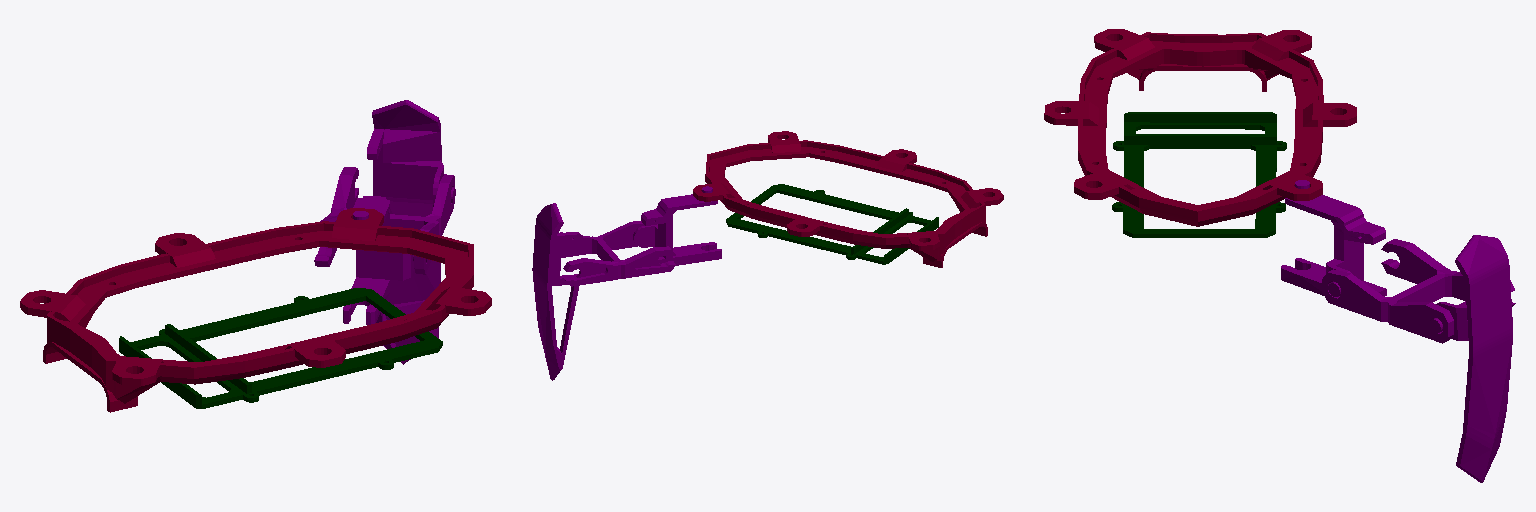
URDF robot description (hexapod):
<?xml version="1.0" ?>
<!-- =================================================================================== -->
<!-- |    This document was autogenerated by xacro from hexapod.urdf.xacro             | -->
<!-- |    EDITING THIS FILE BY HAND IS NOT RECOMMENDED                                 | -->
<!-- =================================================================================== -->
<robot name="hexapod">
  <material name="body">
    <color rgba="0.5 0 0.2 0.5"/>
  </material>
  <link name="cover_top">
    <visual>
      <geometry>
        <mesh filename="package://hex/models/hexapod_new/meshes/new_meshe/cover_top.stl" scale="0.01 0.01 0.01"/>
      </geometry>
      <origin xyz="-0.02 -0 0"/>
      <material name="body"/>
    </visual>
    <inertial>
      <mass value="0.05"/>
      <inertia ixx="0.004208333333333334" ixy="0" ixz="0" iyy="0.014833333333333337" iyz="0" izz="0.010708333333333335"/>
    </inertial>
    <collision>
      <geometry>
        <mesh filename="package://hex/models/hexapod_new/meshes/new_meshe/cover_top.stl" scale="0.01 0.01 0.01"/>
        <origin xyz="-0.02 -0 0"/>
      </geometry>
    </collision>
  </link>
  <joint name="body_top_cover_top_joint" type="fixed">
    <parent link="body_top"/>
    <child link="cover_top"/>
    <origin rpy="0.0 0.0 -0.05" xyz="0.0 -0.115 0.31"/>
  </joint>
  <link name="body_top">
    <visual>
      <geometry>
        <mesh filename="package://hex/models/hexapod_new/meshes/new_meshe/body_top.stl" scale="0.01 0.01 0.01"/>
      </geometry>
      <origin xyz="0 -0.42 0"/>
      <material name="body"/>
    </visual>
    <inertial>
      <mass value="0.2"/>
      <inertia ixx="0.016833333333333336" ixy="0" ixz="0" iyy="0.05933333333333335" iyz="0" izz="0.04283333333333334"/>
    </inertial>
    <collision>
      <geometry>
        <mesh filename="package://hex/models/hexapod_new/meshes/new_meshe/body_top.stl" scale="0.01 0.01 0.01"/>
        <origin xyz="0 -0.42 0"/>
      </geometry>
    </collision>
  </link>
  <joint name="body_top_body_bottom_joint" type="fixed">
    <parent link="body_bottom"/>
    <child link="body_top"/>
    <origin rpy="0.0 0.0 0.0" xyz="0.0 0.02 0"/>
  </joint>
  <link name="board_bracket">
    <visual>
      <geometry>
        <mesh filename="package://hex/models/hexapod_new/meshes/new_meshe/board_bracket.stl" scale="0.01 0.01 0.01"/>
      </geometry>
      <origin xyz="0 0 0"/>
      <material name="green">
        <color rgba="0 0.2 0 0.5"/>
      </material>
    </visual>
    <inertial>
      <mass value="0.3"/>
      <inertia ixx="0.009089999999999999" ixy="0" ixz="0" iyy="0.03925000000000001" iyz="0" izz="0.030340000000000006"/>
    </inertial>
    <collision>
      <geometry>
        <mesh filename="package://hex/models/hexapod_new/meshes/new_meshe/board_bracket.stl" scale="0.01 0.01 0.01"/>
        <origin xyz="0 0 0"/>
      </geometry>
    </collision>
  </link>
  <joint name="base_bottom_bracket_board" type="fixed">
    <parent link="body_bottom"/>
    <child link="board_bracket"/>
    <origin rpy="0.0 0.0 0.0" xyz="0 -0.03 0"/>
  </joint>
  <link name="body_bottom">
    <visual>
      <geometry>
        <mesh filename="package://hex/models/hexapod_new/meshes/new_meshe/body_bottom.stl" scale="0.01 0.01 0.01"/>
      </geometry>
      <origin xyz="0.0 -0.425 0"/>
      <material name="body"/>
    </visual>
    <inertial>
      <mass value="0.2"/>
      <inertia ixx="0.016833333333333336" ixy="0" ixz="0" iyy="0.05933333333333335" iyz="0" izz="0.04283333333333334"/>
    </inertial>
    <collision>
      <geometry>
        <mesh filename="package://hex/models/hexapod_new/meshes/new_meshe/body_bottom.stl" scale="0.01 0.01 0.01"/>
        <origin xyz="0.0 -0.425 0"/>
      </geometry>
    </collision>
  </link>
  <link name="base_footprint"/>
  <joint name="base_footprint_base_bottom_joint" type="fixed">
    <parent link="base_footprint"/>
    <child link="body_bottom"/>
    <origin rpy="0.0 0.0 0.0" xyz="0.0 0.0 0.0"/>
  </joint>
  <material name="coxa">
    <color rgba="0.5 0 0.5 1"/>
  </material>
  <material name="femur">
    <color rgba="0.5 0 0.5 1"/>
  </material>
  <material name="tibia">
    <color rgba="0.5 0 0.5 1"/>
  </material>
  <link name="coxa_1">
    <visual>
      <geometry>
        <mesh filename="package://hex/models/hexapod_new/meshes/new_meshe/coxa.stl" scale="0.01 0.01 0.01"/>
      </geometry>
      <origin xyz="0 0 0"/>
      <material name="coxa"/>
    </visual>
    <inertial>
      <mass value="0.2"/>
      <inertia ixx="0.008333333333333333" ixy="0" ixz="0" iyy="0.004541666666666667" iyz="0" izz="0.004541666666666667"/>
    </inertial>
    <collision>
      <geometry>
        <mesh filename="package://hex/models/hexapod_new/meshes/new_meshe/coxa.stl" scale="0.01 0.01 0.01"/>
        <origin xyz="0 0 0"/>
      </geometry>
    </collision>
  </link>
  <link name="femur_1">
    <visual>
      <geometry>
        <mesh filename="package://hex/models/hexapod_new/meshes/new_meshe/femur.stl" scale="0.01 0.01 0.01"/>
      </geometry>
      <origin xyz="0 0 0"/>
      <material name="femur"/>
    </visual>
    <inertial>
      <mass value="0.2"/>
      <inertia ixx="0.009121666666666667" ixy="0" ixz="0" iyy="0.012015" iyz="0" izz="0.0038566666666666675"/>
    </inertial>
    <collision>
      <geometry>
        <mesh filename="package://hex/models/hexapod_new/meshes/new_meshe/femur.stl" scale="0.01 0.01 0.01"/>
        <origin xyz="0 0 0"/>
      </geometry>
    </collision>
  </link>
  <link name="tibia_1">
    <visual>
      <geometry>
        <mesh filename="package://hex/models/hexapod_new/meshes/new_meshe/tibia.stl" scale="0.01 0.01 0.01"/>
      </geometry>
      <origin xyz="0 0 0"/>
      <material name="tibia"/>
    </visual>
    <inertial>
      <mass value="0.2"/>
      <inertia ixx="0.02284833333333333" ixy="0" ixz="0" iyy="0.023541666666666666" iyz="0" izz="0.0023066666666666665"/>
    </inertial>
    <collision>
      <geometry>
        <mesh filename="package://hex/models/hexapod_new/meshes/new_meshe/tibia.stl" scale="0.01 0.01 0.01"/>
        <origin xyz="0 0 0"/>
      </geometry>
    </collision>
  </link>
  <joint name="base_coxa_joint_1" type="revolute">
    <parent link="body_bottom"/>
    <child link="coxa_1"/>
    <origin rpy="0 0 2.44" xyz="0.7 0.435 0.05"/>
    <limit effort="50" lower="-0.707" upper="707" velocity="1.0"/>
    <axis xyz="0 0 1"/>
    <dynamics damping="60.0" friction="4.0"/>
  </joint>
  <joint name="coxa_femur_joint_1" type="revolute">
    <parent link="coxa_1"/>
    <child link="femur_1"/>
    <origin rpy="0.0 0.0 0.0" xyz="0.09 -0.345 -0.04"/>
    <limit effort="200" lower="-0.707" upper="0.707" velocity="1.0"/>
    <axis xyz="1 0 0"/>
    <dynamics damping="60.0" friction="4.0"/>
  </joint>
  <joint name="femur_tibia_joint_1" type="revolute">
    <parent link="femur_1"/>
    <child link="tibia_1"/>
    <origin rpy="0 0.0 0.0" xyz="-0.035 -0.555 0.0"/>
    <limit effort="200" lower="0.707" upper="2.3" velocity="1.0"/>
    <axis xyz="1 0 0"/>
    <dynamics damping="0.7" friction="0.1"/>
  </joint>
  <transmission name="tran1">
    <type>transmission_interface/SimpleTransmission</type>
    <joint name="base_coxa_joint_1">
      <hardwareInterface>hardware_interface/EffortJointInterface</hardwareInterface>
    </joint>
    <actuator name="motor1">
      <hardwareInterface>hardware_interface/EffortJointInterface</hardwareInterface>
      <mechanicalReduction>1</mechanicalReduction>
    </actuator>
  </transmission>
  <transmission name="tran2">
    <type>transmission_interface/SimpleTransmission</type>
    <joint name="coxa_femur_joint_1">
      <hardwareInterface>hardware_interface/EffortJointInterface</hardwareInterface>
    </joint>
    <actuator name="motor2">
      <hardwareInterface>hardware_interface/EffortJointInterface</hardwareInterface>
      <mechanicalReduction>1</mechanicalReduction>
    </actuator>
  </transmission>
  <transmission name="tran3">
    <type>transmission_interface/SimpleTransmission</type>
    <joint name="femur_tibia_joint_1">
      <hardwareInterface>hardware_interface/EffortJointInterface</hardwareInterface>
    </joint>
    <actuator name="motor3">
      <hardwareInterface>hardware_interface/EffortJointInterface</hardwareInterface>
      <mechanicalReduction>1</mechanicalReduction>
    </actuator>
  </transmission>
  <gazebo reference="base">
    <kp>1000000.0</kp>
    <kd>100.0</kd>
    <mu1>0.5</mu1>
    <mu2>0.5</mu2>
    <maxVel>1.0</maxVel>
    <minDepth>0.001</minDepth>
    <material>Gazebo/Red</material>
  </gazebo>
  <gazebo reference="coxa_1">
    <mu1>0.1</mu1>
    <mu2>0.1</mu2>
    <kp>500000.0</kp>
    <kd>10.0</kd>
    <minDepth>0.001</minDepth>
    <maxVel>0.1</maxVel>
    <fdir1>1 0 0</fdir1>
    <material>Gazebo/Green</material>
  </gazebo>
  <gazebo reference="femur_1">
    <mu1>0.1</mu1>
    <mu2>0.1</mu2>
    <kp>500000.0</kp>
    <kd>10.0</kd>
    <minDepth>0.001</minDepth>
    <maxVel>0.1</maxVel>
    <fdir1>1 0 0</fdir1>
    <material>Gazebo/Orange</material>
  </gazebo>
  <gazebo reference="tibia_1">
    <mu1>0.1</mu1>
    <mu2>0.1</mu2>
    <kp>500000.0</kp>
    <kd>10.0</kd>
    <minDepth>0.001</minDepth>
    <maxVel>0.1</maxVel>
    <fdir1>1 0 0</fdir1>
    <material>Gazebo/Blue</material>
  </gazebo>
  <!-- 
     <xacro:leg 
    namespace="leg2" 
    legnumber="2" 
    xyz="-0.03 0.59 0.05"
    rpy="0 0 3.14" 
    lower_bc = "0.707"  
    upper_bc = "2.27" 
    lower_cf = "0.3" 
    upper_cf = "1.4" 
    lower_ft = "-2.27" 
    upper_ft = "-1.57"/>

    <xacro:leg 
    namespace="leg3" 
    legnumber="3" 
    xyz="-0.76 0.39 0.05"
    rpy="0 0 3.84" 
    lower_bc = "0.707"  
    upper_bc = "3.14" 
    lower_cf = "0.3" 
    upper_cf = "1.4" 
    lower_ft = "-2.27" 
    upper_ft = "-1.57"/>

    <xacro:leg 
    namespace="leg4" 
    legnumber="4" 
    xyz="-0.77 -0.345 0.05"
    rpy="0 0 -0.7" 
    lower_bc = "0"  
    upper_bc = "-2.27" 
    lower_cf = "0.3" 
    upper_cf = "1.4" 
    lower_ft = "-2.27" 
    upper_ft = "-1.57"/>

    <xacro:leg 
    namespace="leg5" 
    legnumber="5" 
    xyz="-0.054 -0.565 0.05"
    rpy="0 0 0" 
    lower_bc = "-2.27"  
    upper_bc = "-0.707" 
    lower_cf = "0.3" 
    upper_cf = "1.4" 
    lower_ft = "-2.27" 
    upper_ft = "-1.57"/>

    <xacro:leg 
    namespace="leg6" 
    legnumber="6" 
    xyz="0.69 -0.435 0.05"
    rpy="0 0 0.7" 
    lower_bc = "-3.847"  
    upper_bc = "-0.707" 
    lower_cf = "0.3" 
    upper_cf = "1.4" 
    lower_ft = "-2.27" 
    upper_ft = "-1.57"/> -->
</robot>

--- Facts derived from the render (not from the file) ---
The picture shows the robot from 3 angles, left to right: view 1: azimuth 30°, elevation 25°; view 2: azimuth 150°, elevation 25°; view 3: azimuth 270°, elevation 25°; orthographic projection.
Robot: hexapod — 8 links, 7 joints (3 revolute, 4 fixed); root link base_footprint; default pose: all joints at 0 but 1 set to mid-range because 0 is outside their limits (femur_tibia_joint_1 = 1.5).
Visible links, largest first — view 1: body_top, board_bracket, tibia_1, coxa_1, femur_1; view 2: body_top, tibia_1, board_bracket, femur_1, coxa_1; view 3: body_top, tibia_1, board_bracket, femur_1, coxa_1.
Boxes of the visible links, <box> form: body_top: <box>20,208,491,412</box>; board_bracket: <box>119,288,442,408</box>; tibia_1: <box>367,100,455,364</box>; coxa_1: <box>343,196,428,324</box>; femur_1: <box>314,167,454,274</box>; body_top: <box>693,131,1003,267</box>; tibia_1: <box>532,203,582,380</box>; board_bracket: <box>726,184,938,264</box>; femur_1: <box>560,221,675,286</box>; coxa_1: <box>633,186,721,265</box>; body_top: <box>1044,29,1356,226</box>; tibia_1: <box>1429,235,1512,482</box>; board_bracket: <box>1112,112,1286,237</box>; femur_1: <box>1322,239,1515,343</box>; coxa_1: <box>1281,180,1386,296</box>.
Size in the robot's own frame: 2.33 by 1.97 by 1.15 metres.
Meshes: 7 distinct files referenced, 5 mesh visuals loaded (5 binary STL); not drawn: 2 (reference not matched to a file when rendering).